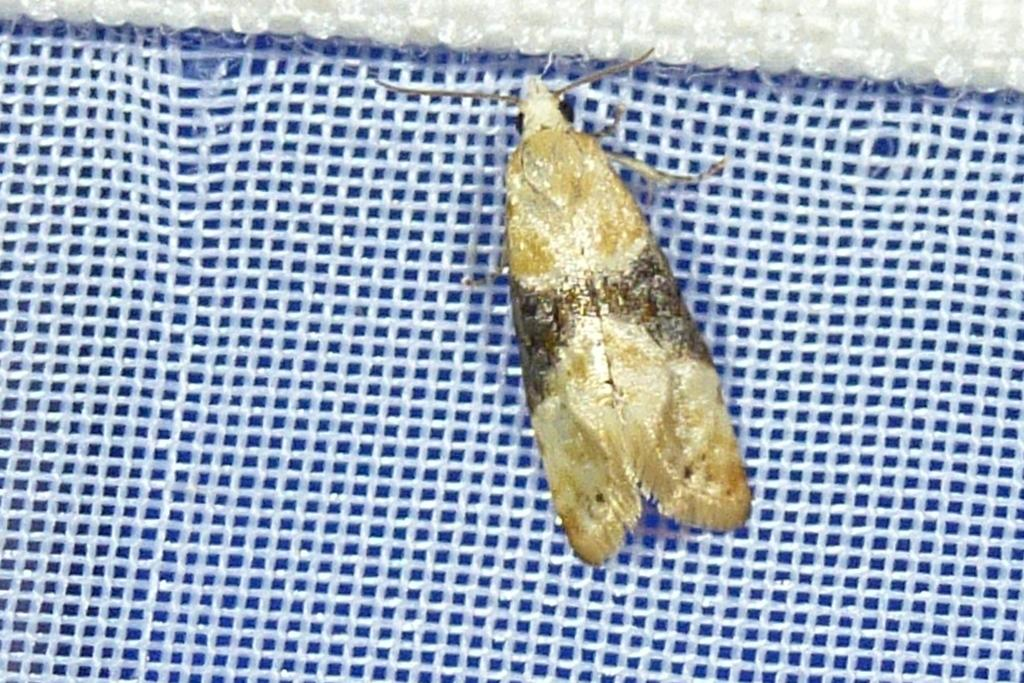Eupoecilia Ambiguella: (367, 44, 756, 570)
